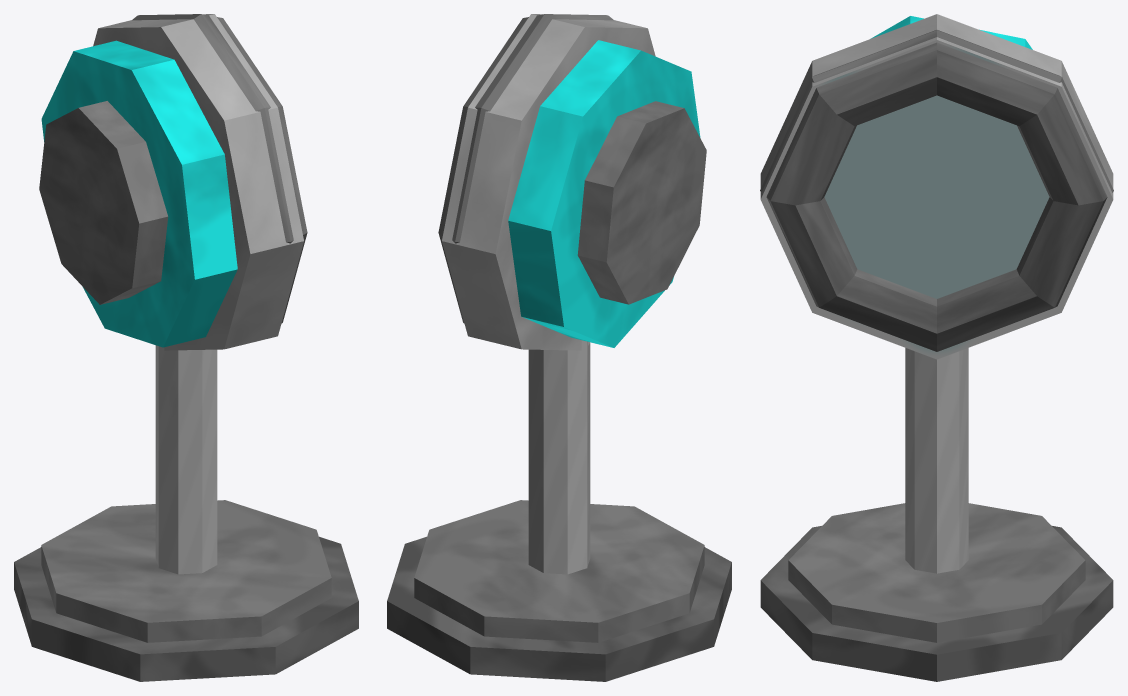
Rendered from reflector.fbx.
3 views of the same model, side by side, from view 1: azimuth 30°, elevation 25°; view 2: azimuth 150°, elevation 25°; view 3: azimuth 270°, elevation 25° (orthographic).
Parts seen in each view (by area): view 1: Torus; view 2: Torus; view 3: Torus.
Boxes of the visible parts, box(x1,y1,x2,y2) form: Torus: box(14, 14, 358, 681); Torus: box(387, 14, 731, 681); Torus: box(760, 14, 1113, 681).
Size of the model in its own units: 200 by 366 by 201.
